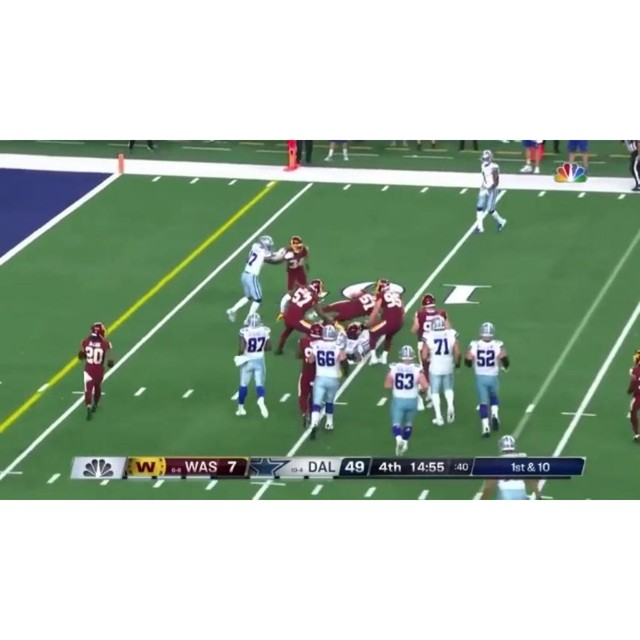american-football-player: (380, 345, 430, 456), (464, 322, 511, 436), (226, 236, 285, 326), (418, 315, 461, 427), (306, 325, 348, 439), (232, 312, 273, 420), (275, 278, 326, 355), (77, 322, 114, 422), (364, 279, 406, 367), (294, 324, 325, 426), (474, 151, 507, 234), (273, 235, 310, 295), (626, 351, 640, 444)
